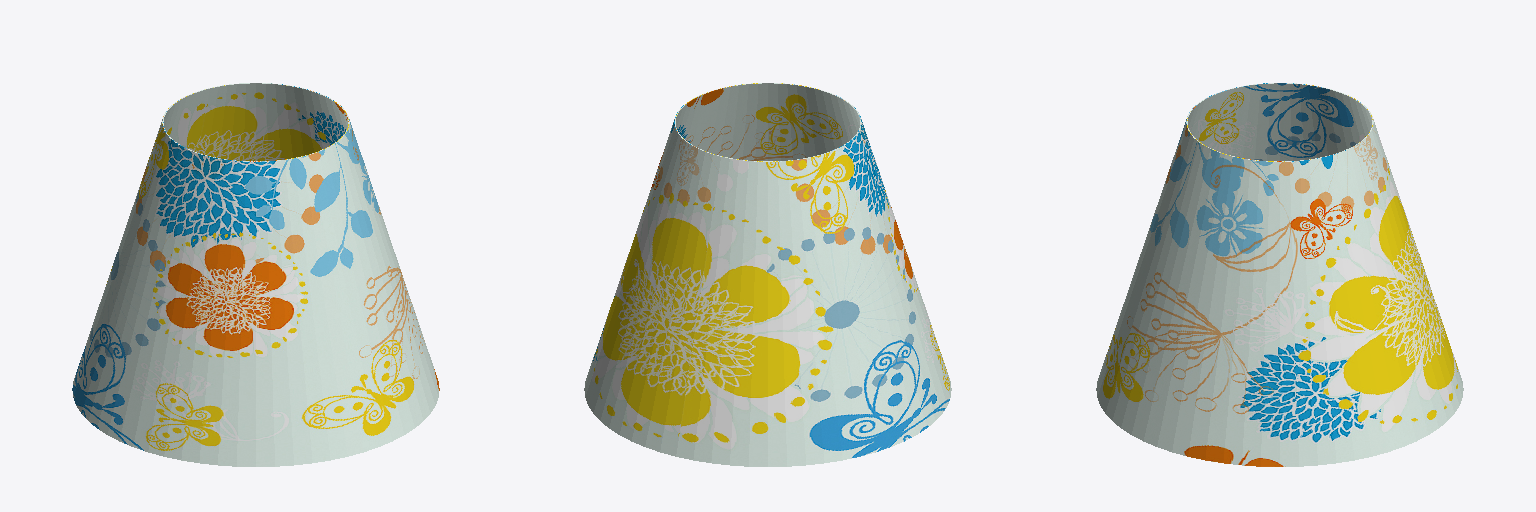
The picture shows the model from 3 angles: view 1: azimuth 30°, elevation 25°; view 2: azimuth 150°, elevation 25°; view 3: azimuth 270°, elevation 25°; orthographic projection.
Visible parts, largest first — view 1: Tube001; view 2: Tube001; view 3: Tube001.
Part boxes in pixels (left/top/right/bottom): Tube001: left=72, top=83, right=439, bottom=466; Tube001: left=584, top=83, right=951, bottom=466; Tube001: left=1096, top=83, right=1463, bottom=466.
Size of the model in its own units: 23.2 by 18.61 by 23.2.
Materials: 2 (1 with a texture image).